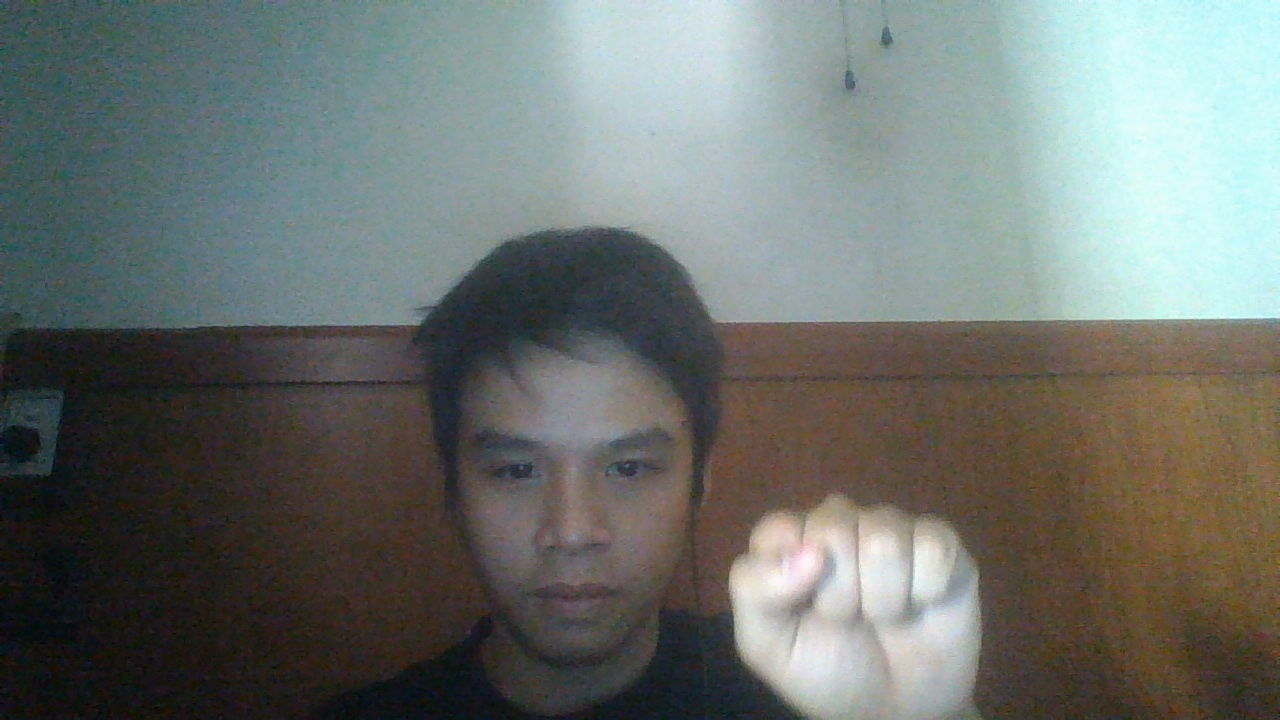stop: (722, 495, 988, 720)
